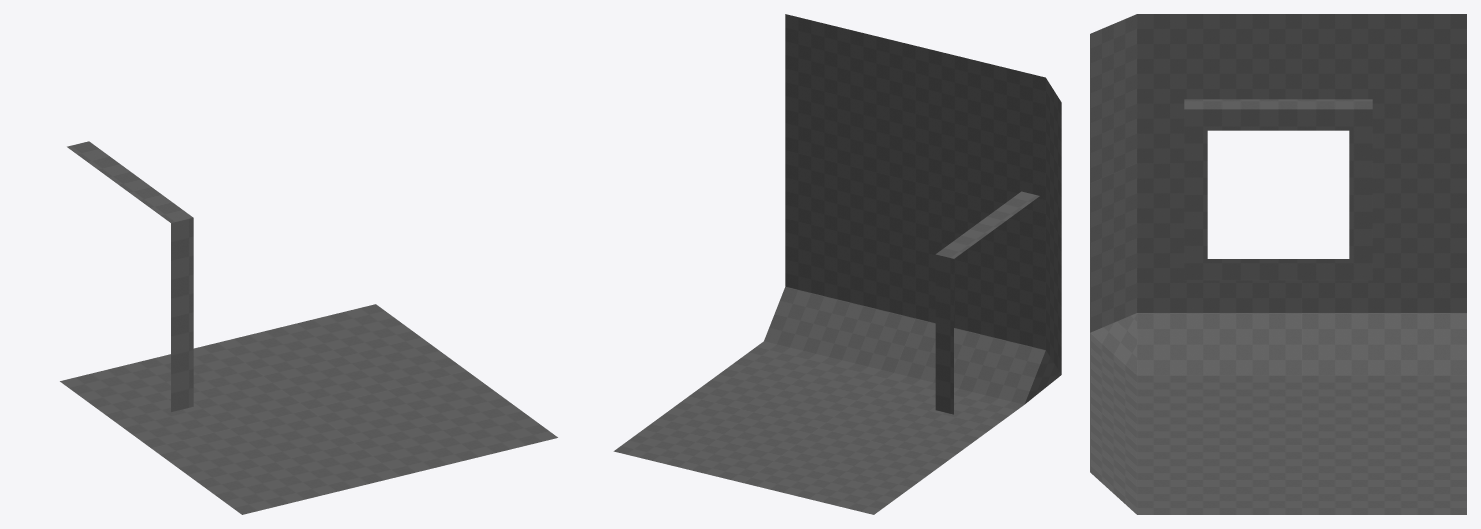
3 renders of one model, left to right at view 1: azimuth 30°, elevation 25°; view 2: azimuth 150°, elevation 25°; view 3: azimuth 270°, elevation 25°, orthographic. The views are drawn at different scales.
Visible parts, largest first — view 1: CubeInUpBackRightV1; view 2: CubeInUpBackRightV1; view 3: CubeInUpBackRightV1.
Boxes of the visible parts, x1=… form: CubeInUpBackRightV1: x1=60, y1=141, x2=557, y2=514; CubeInUpBackRightV1: x1=613, y1=14, x2=1061, y2=514; CubeInUpBackRightV1: x1=1090, y1=14, x2=1466, y2=514.
Bounding box in the file's own units: 2 × 2 × 2.
1 material, 1 textured.
